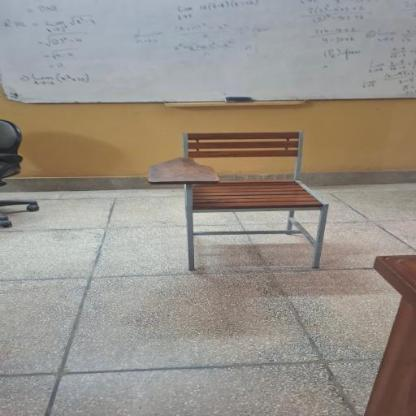chair: (146, 123, 337, 277)
